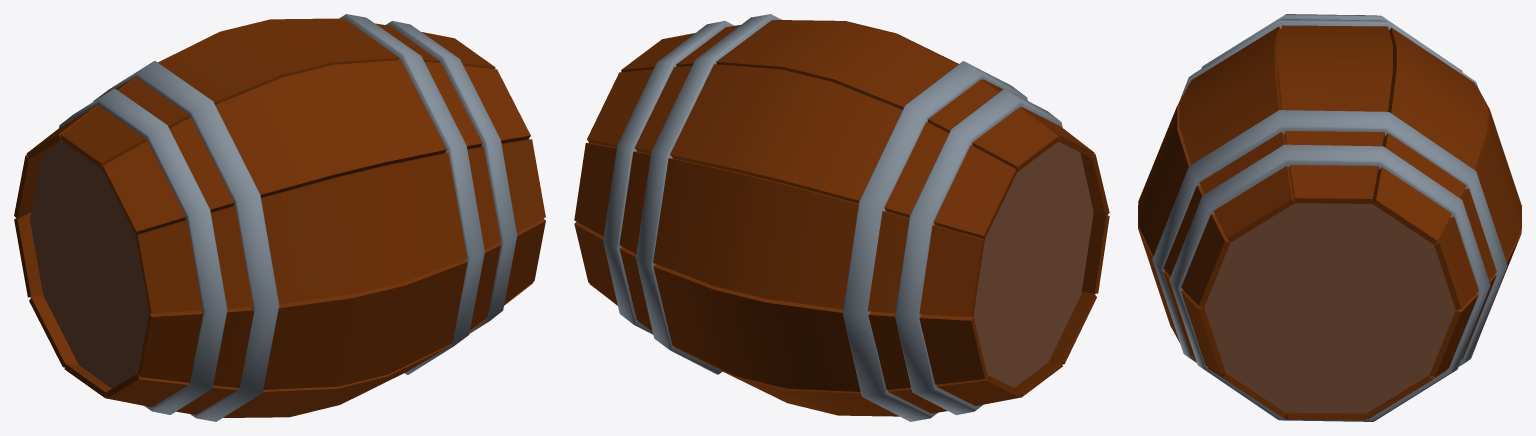
Rendered from Wine-Barrel-2.fbx.
3 renders of one model, left to right at view 1: azimuth 30°, elevation 25°; view 2: azimuth 150°, elevation 25°; view 3: azimuth 270°, elevation 25°, orthographic. The views are drawn at different scales.
Visible parts, largest first — view 1: Wine-Barrel-2; view 2: Wine-Barrel-2; view 3: Wine-Barrel-2.
Boxes of the visible parts, left/top/right/bottom form: Wine-Barrel-2: left=14, top=14, right=545, bottom=421; Wine-Barrel-2: left=574, top=14, right=1109, bottom=421; Wine-Barrel-2: left=1138, top=14, right=1521, bottom=421.
Size of the model in its own units: 0.7127 by 0.5859 by 0.6293.
